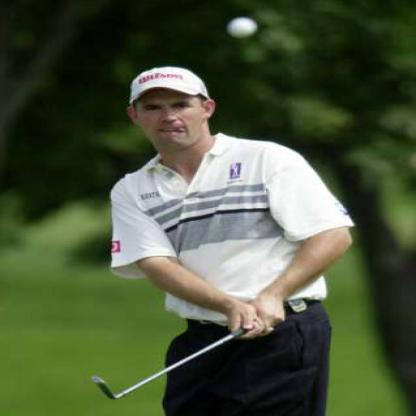face: (139, 69, 207, 153)
